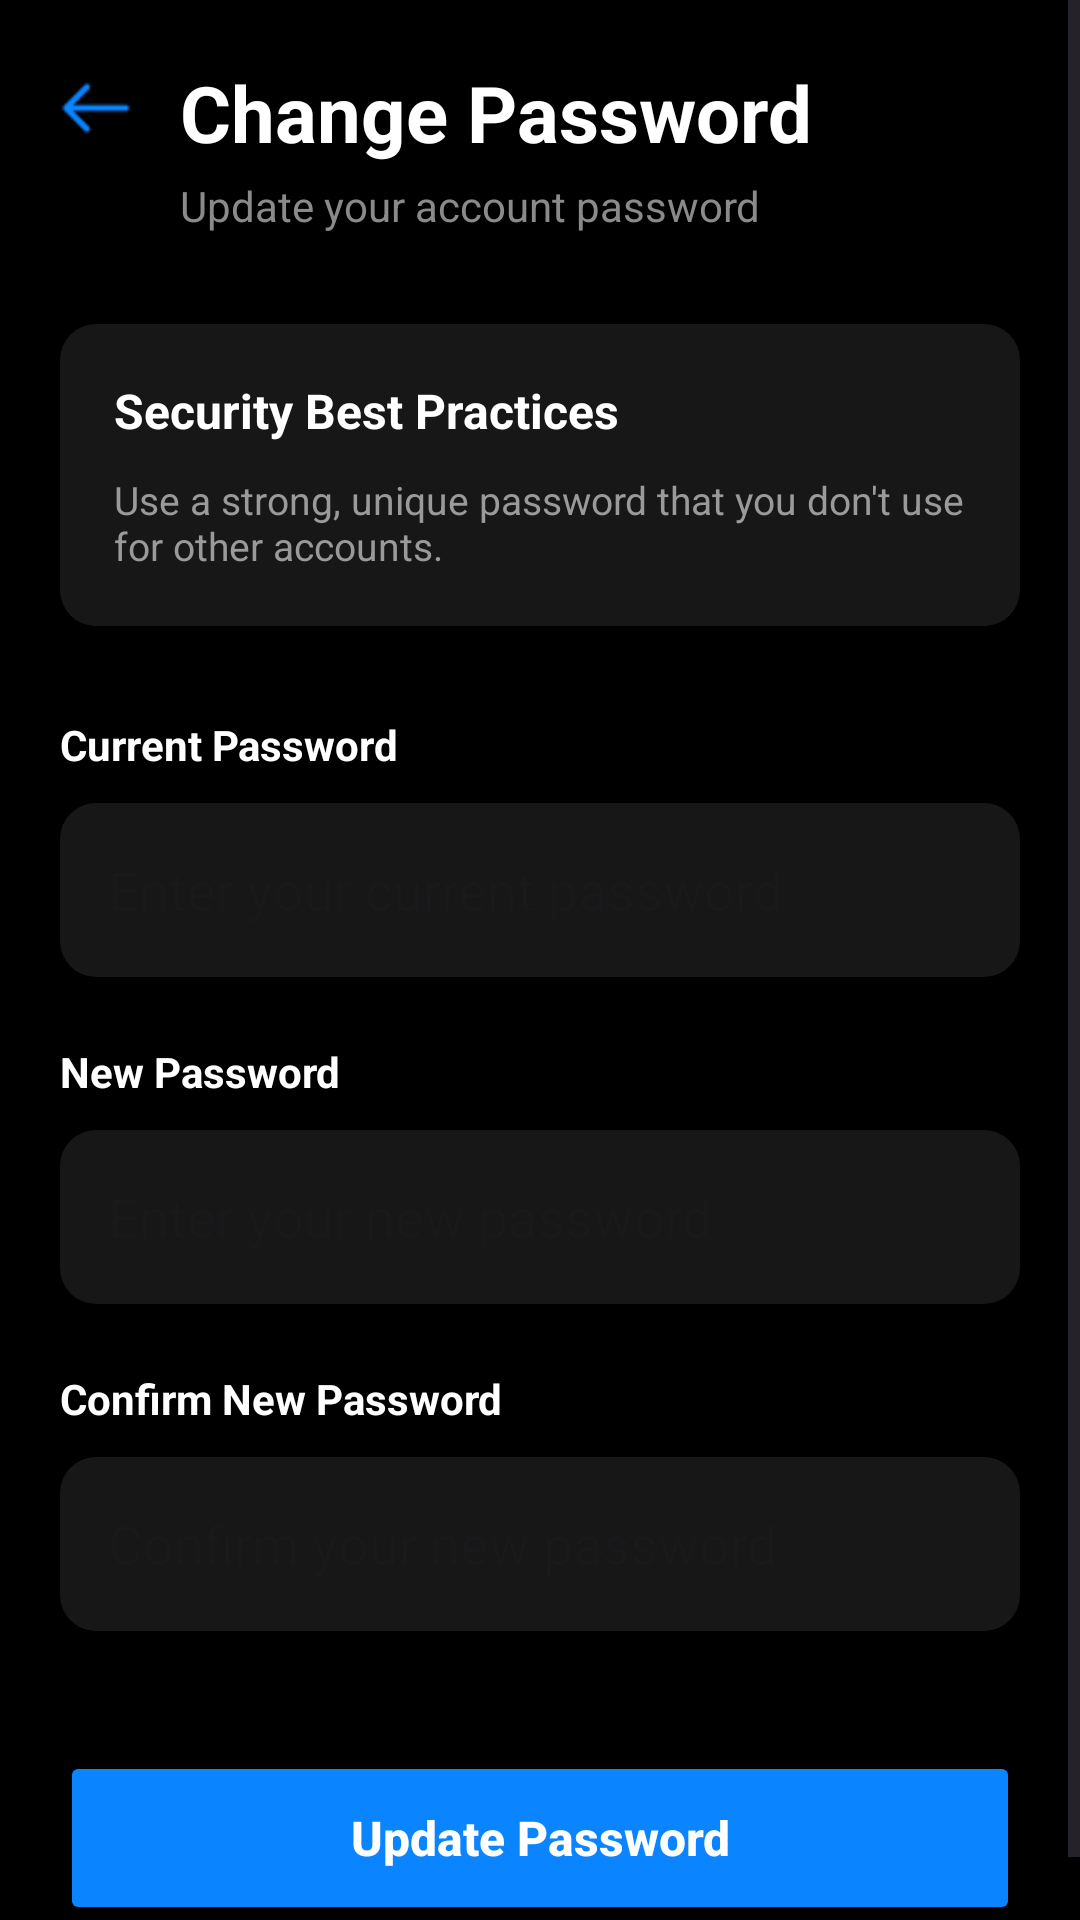

Where to tap for icons on this 1080 x 1920 app screen, as point (x, y):
back: point (96, 108)
